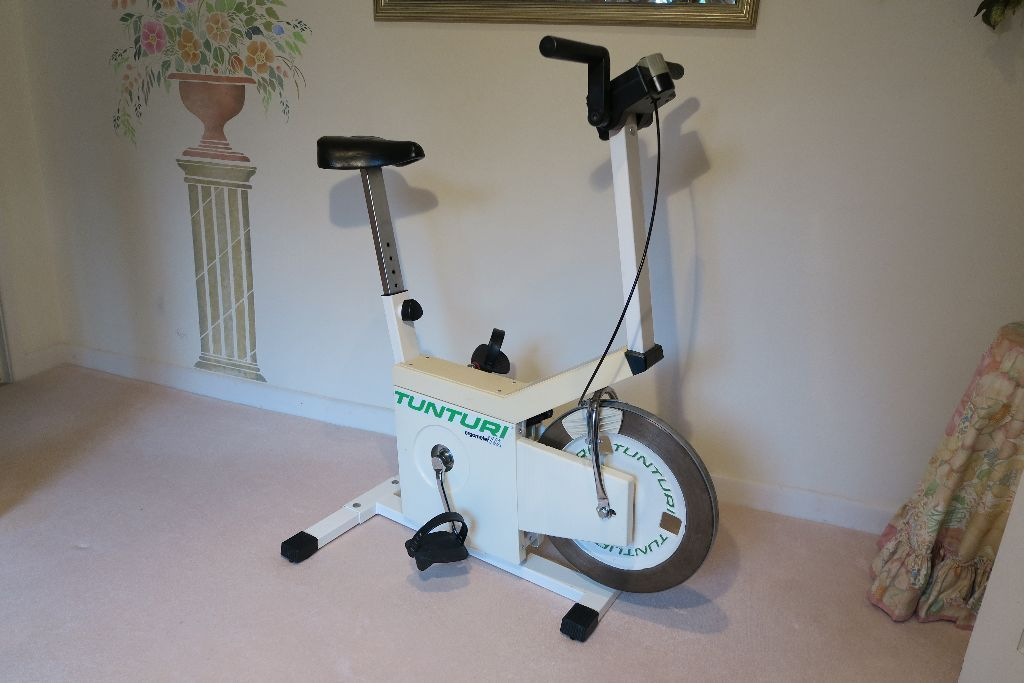gym_bike: (300, 32, 741, 635)
